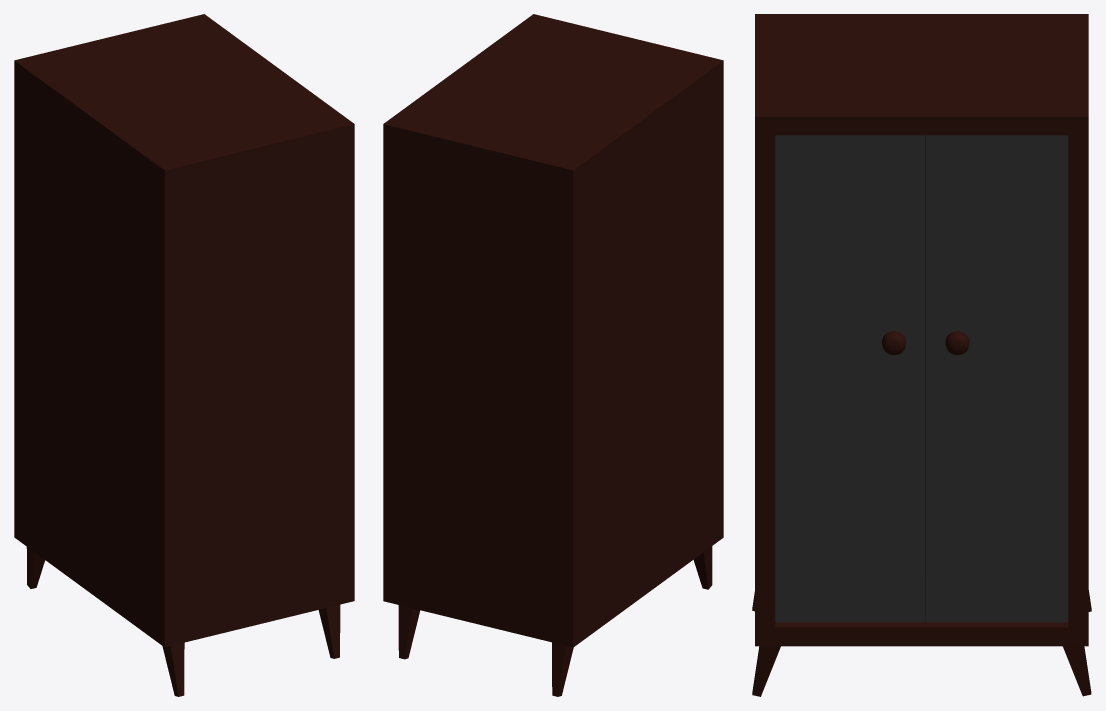
File: Armario Normal FBX.fbx
3 views of the same model, side by side, from view 1: azimuth 30°, elevation 25°; view 2: azimuth 150°, elevation 25°; view 3: azimuth 270°, elevation 25° (orthographic). The views are drawn at different scales.
Visible parts, largest first — view 1: Plane.002; view 2: Plane.002; view 3: Plane.002.
Boxes of the visible parts, x1,y1,x2,y2 form: Plane.002: (14,14,354,696); Plane.002: (383,14,723,696); Plane.002: (752,14,1091,696).
Size of the model in its own units: 124 by 320 by 167.
